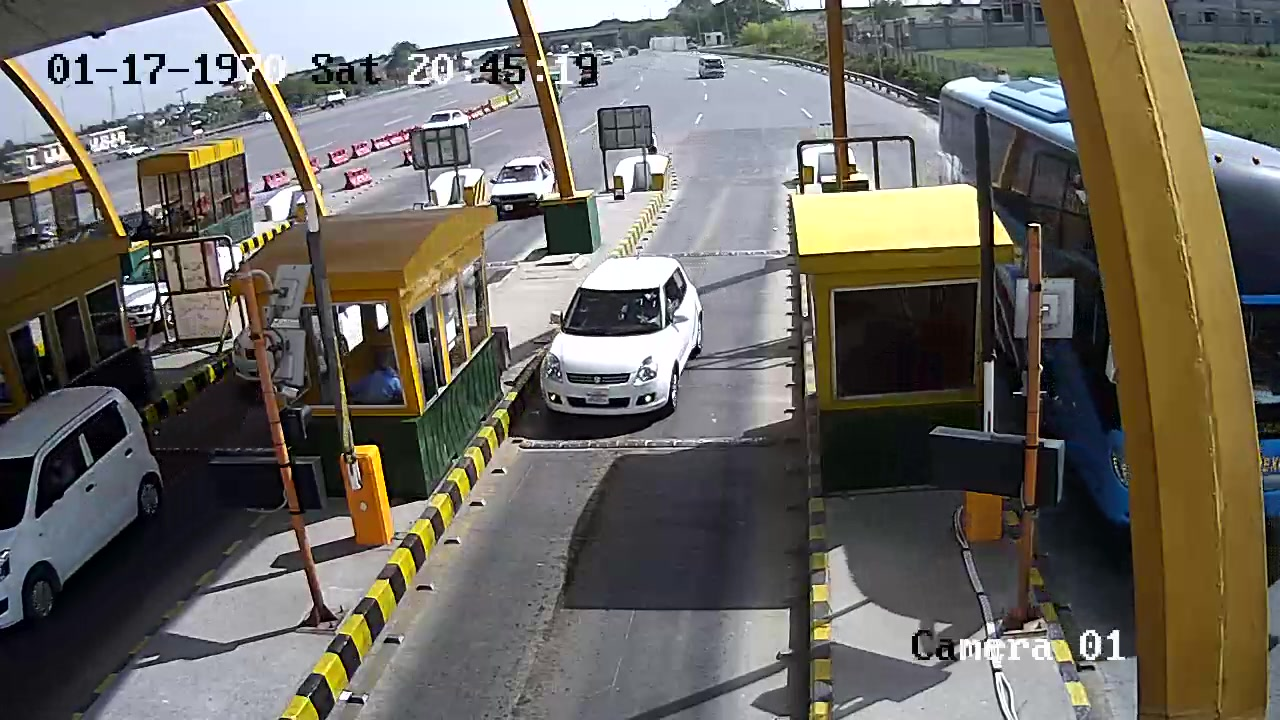F1: (532, 249, 716, 427)
